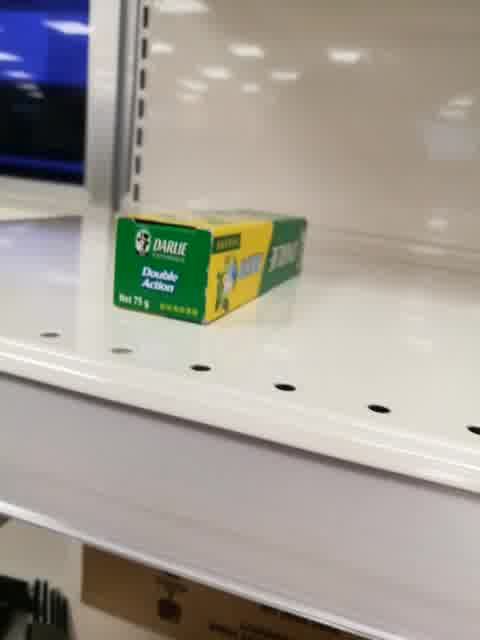toothpaste: (112, 209, 308, 326)
